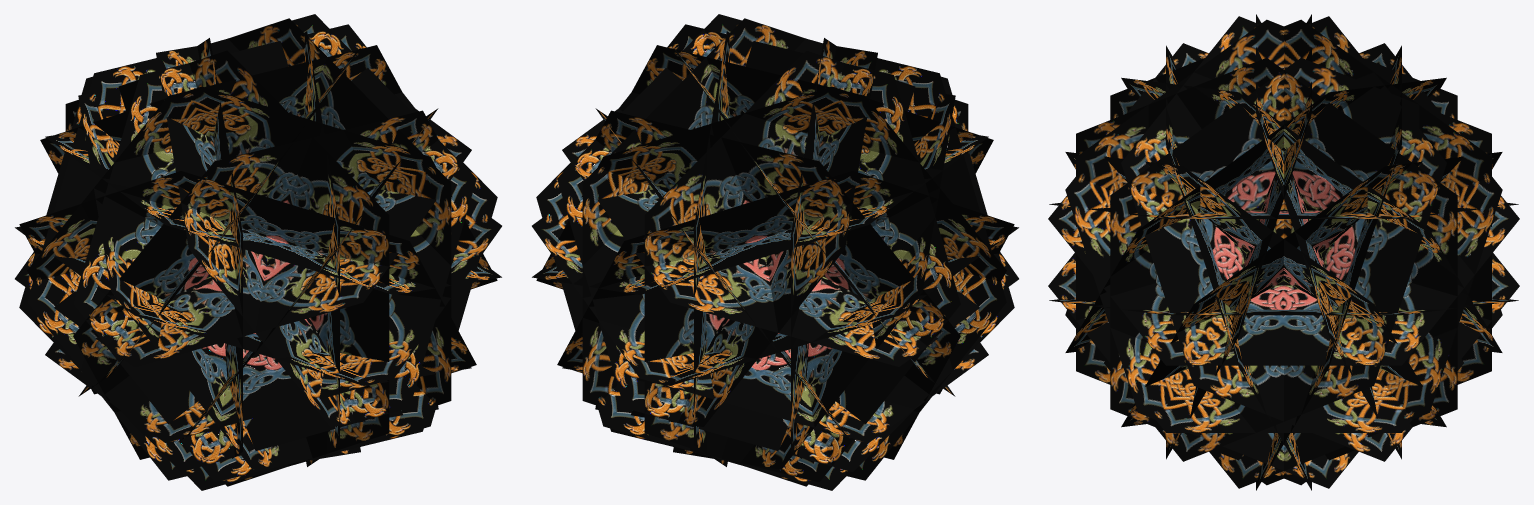
File: GreatTruncatedIcosidodecahedron.gltf
3 renders of one model, left to right at view 1: azimuth 30°, elevation 25°; view 2: azimuth 150°, elevation 25°; view 3: azimuth 270°, elevation 25°, orthographic. The views are drawn at different scales.
Visible parts, largest first — view 1: GreatTruncatedIcosidodecahedron; view 2: GreatTruncatedIcosidodecahedron; view 3: GreatTruncatedIcosidodecahedron.
Boxes of the visible parts, x1,y1,x2,y2 form: GreatTruncatedIcosidodecahedron: (15,14,501,490); GreatTruncatedIcosidodecahedron: (532,14,1018,490); GreatTruncatedIcosidodecahedron: (1048,14,1519,490).
Size of the model in its own units: 2 by 2 by 2.
Materials: 1 (1 with a texture image).
